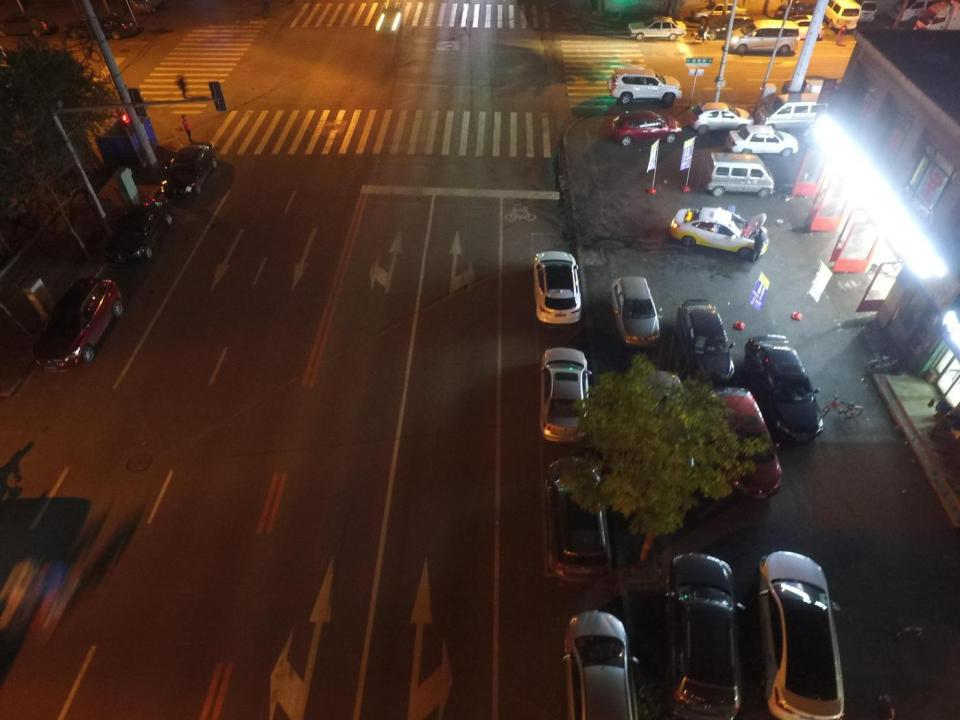car: (758, 552, 845, 720), (665, 554, 743, 719), (541, 456, 612, 584), (702, 387, 781, 502), (31, 277, 122, 372), (745, 333, 820, 445), (564, 610, 639, 718), (628, 372, 684, 482), (668, 206, 774, 262), (677, 297, 736, 388), (539, 347, 594, 444), (105, 200, 172, 265), (532, 250, 584, 326), (608, 276, 658, 350), (162, 140, 215, 198), (608, 67, 683, 104), (610, 110, 681, 146), (727, 124, 797, 154), (66, 13, 136, 40), (686, 104, 753, 132), (1, 12, 57, 38), (702, 13, 758, 39), (629, 16, 686, 41), (774, 14, 824, 41), (690, 1, 749, 20), (828, 1, 859, 30), (859, 0, 879, 19)
truck: (917, 2, 960, 36), (892, 1, 945, 24)
van: (702, 155, 777, 197), (752, 93, 828, 128), (729, 22, 800, 53)
